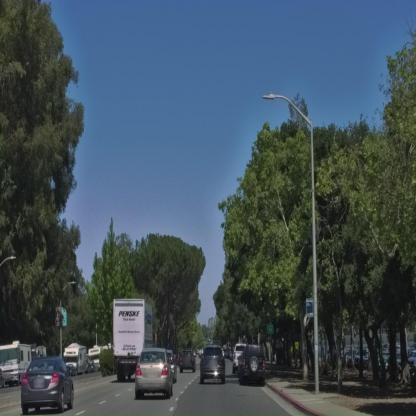car: (20, 356, 76, 416), (133, 349, 177, 399), (235, 344, 266, 386), (178, 350, 196, 373), (234, 344, 247, 362)
motorbike: (199, 353, 225, 385)
truck: (112, 300, 146, 383), (0, 342, 35, 387), (64, 342, 93, 376)
